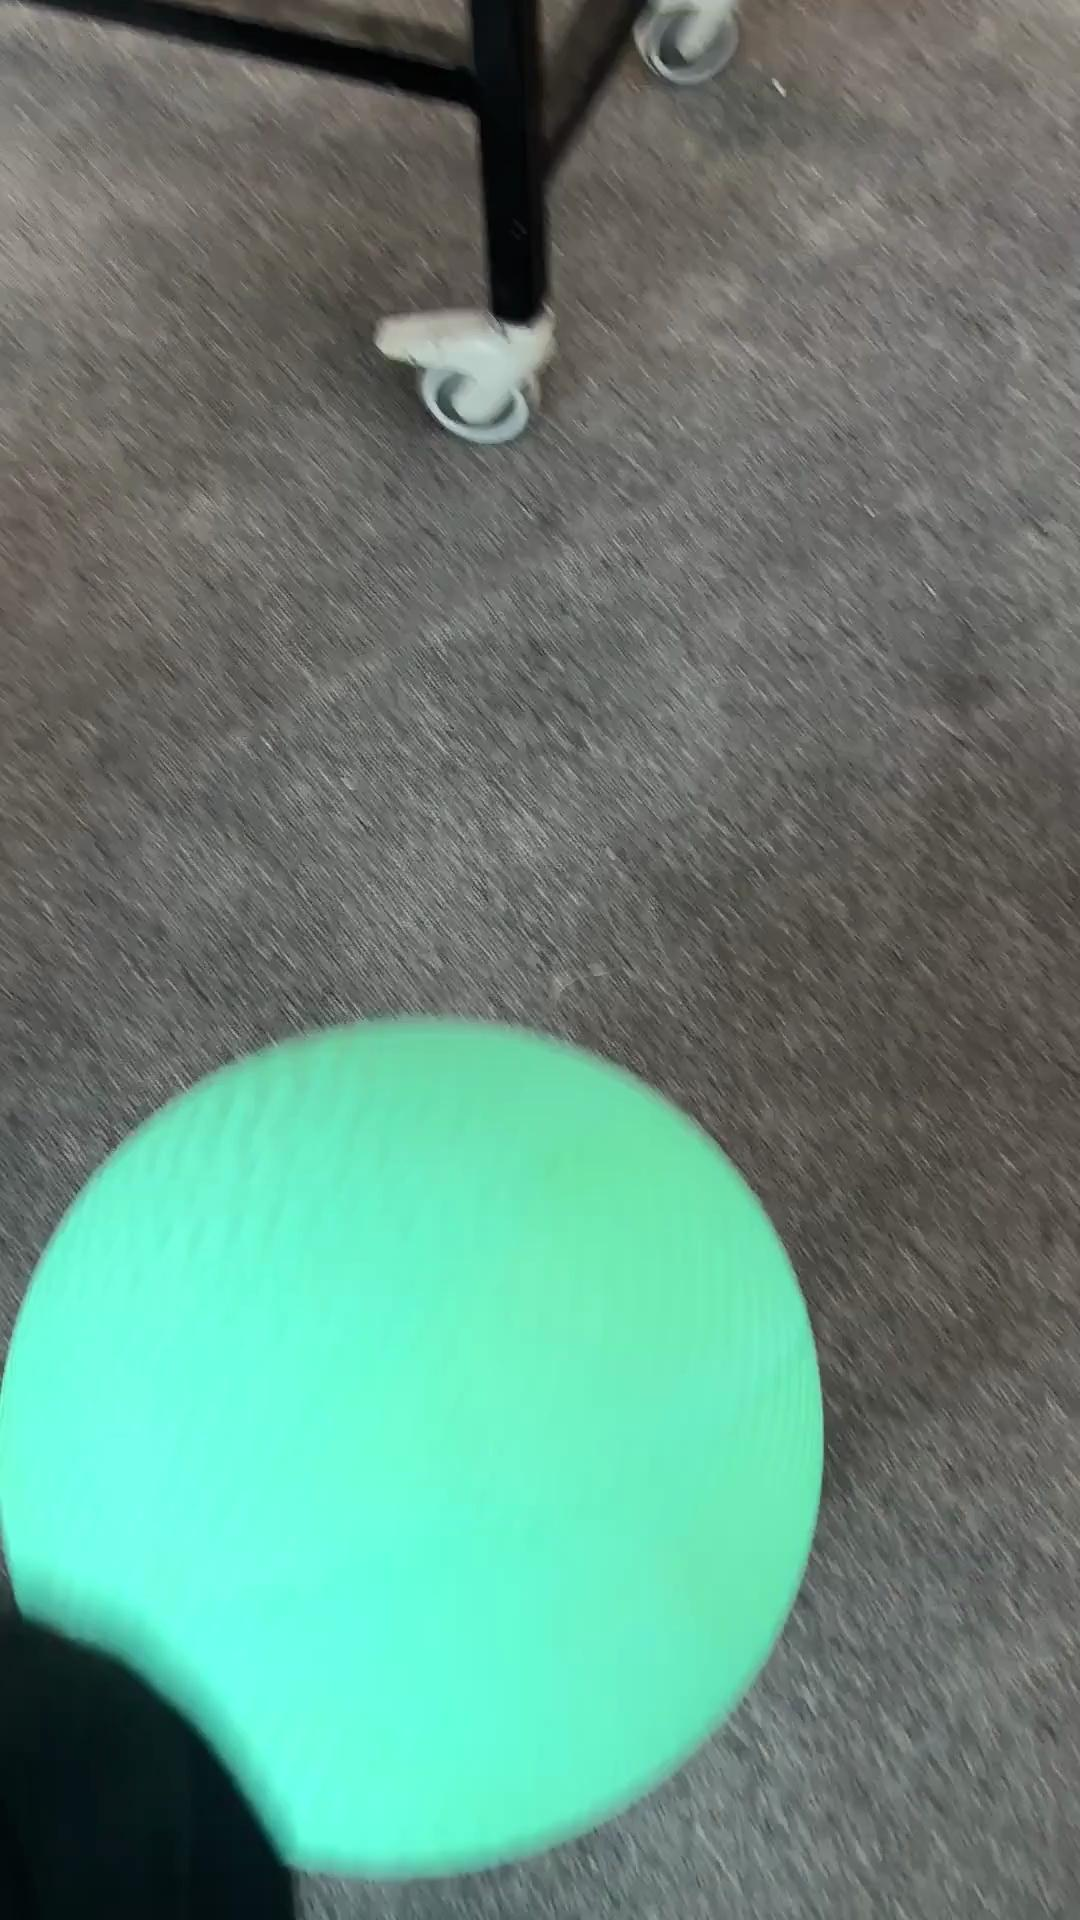ALGAE: (3, 1013, 828, 1880)
